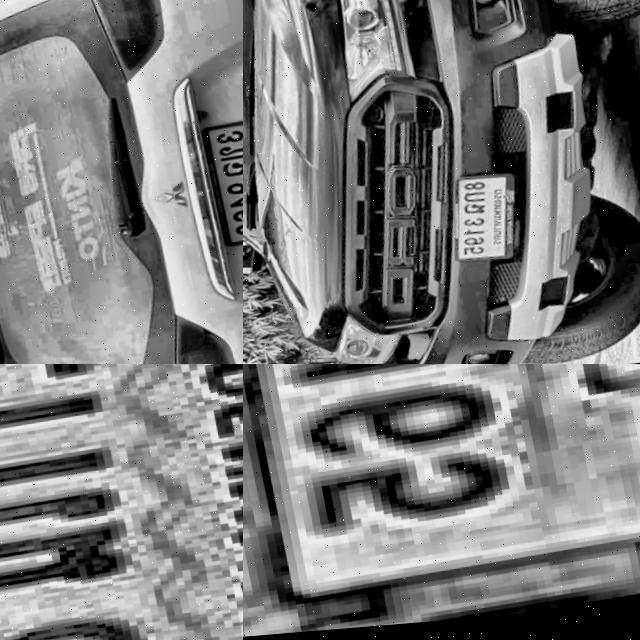license-plate: (243, 364, 640, 630), (0, 364, 243, 640), (425, 166, 522, 277), (192, 117, 243, 254)
